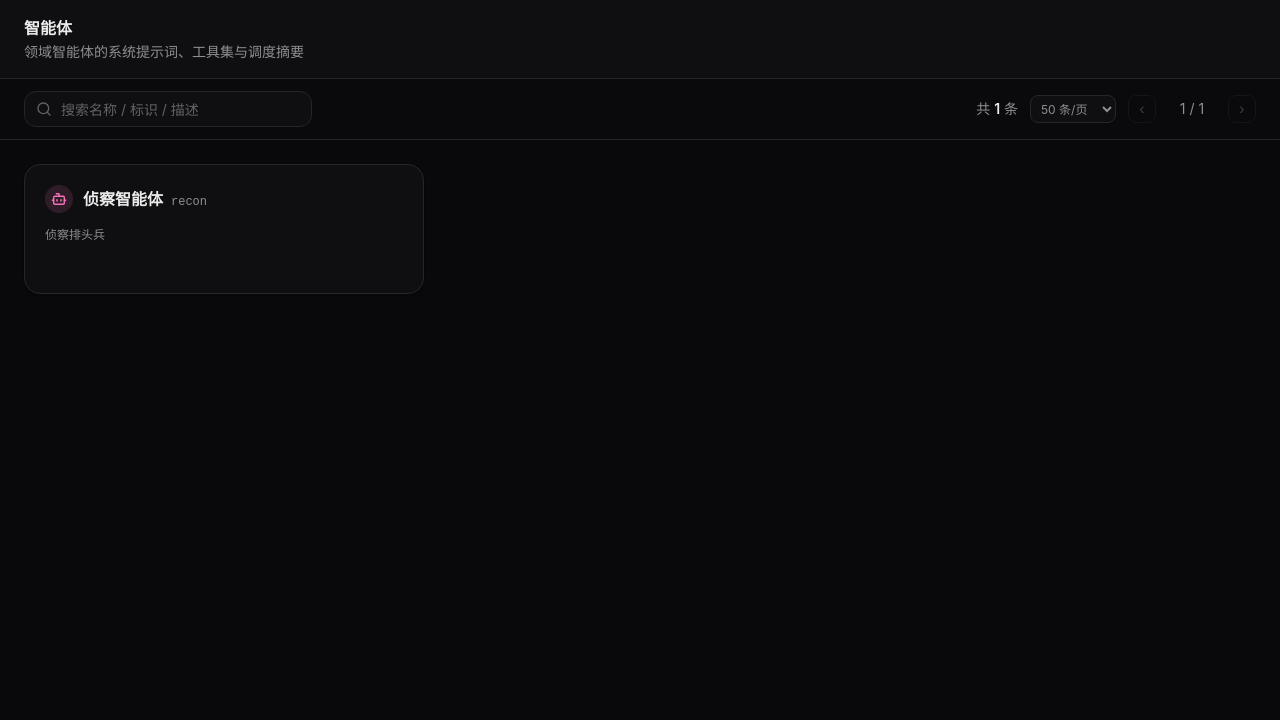
Test: AgentsPage › 无变更时保存禁用，产生变更后解锁
Click the button "侦察智能体".
click(123, 199)  # box [24,164,424,294]
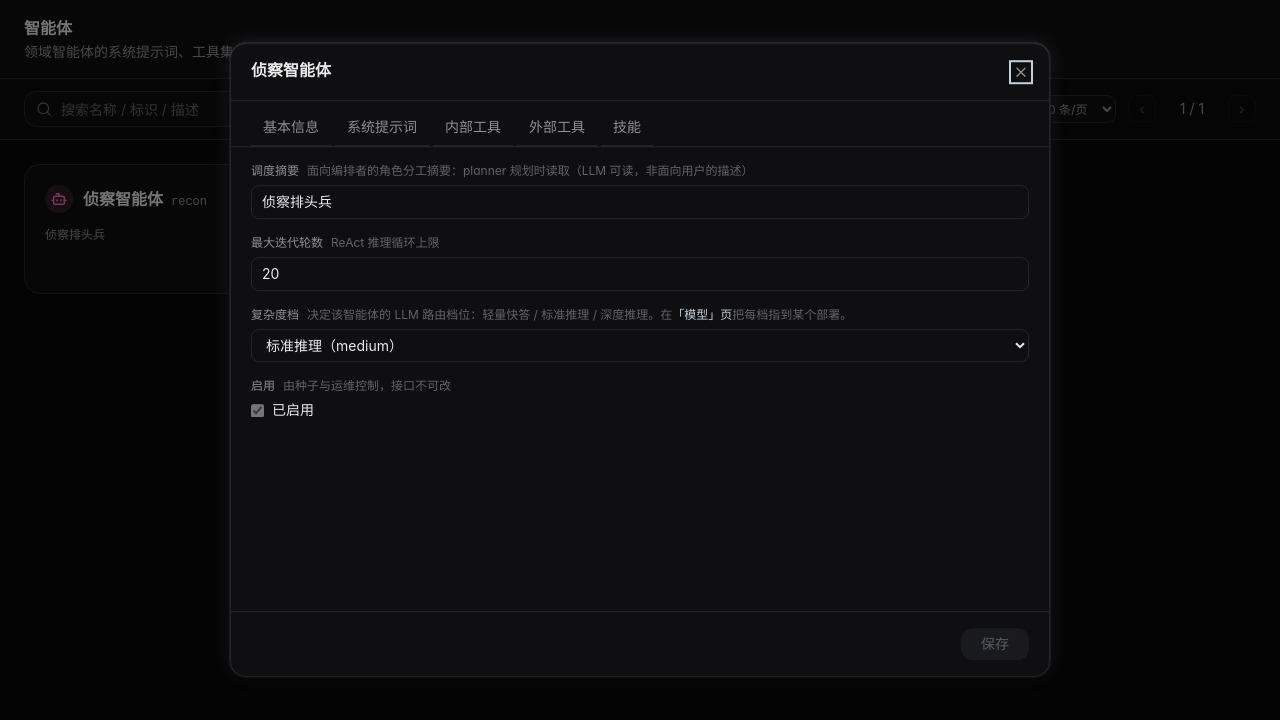
Expected: the dialog is shown, [230,43,1050,677]
Expected: the button "保存" is disabled, [961,628,1029,660]
Click the tab "内部工具".
click(473, 128)  # box [433,109,513,147]
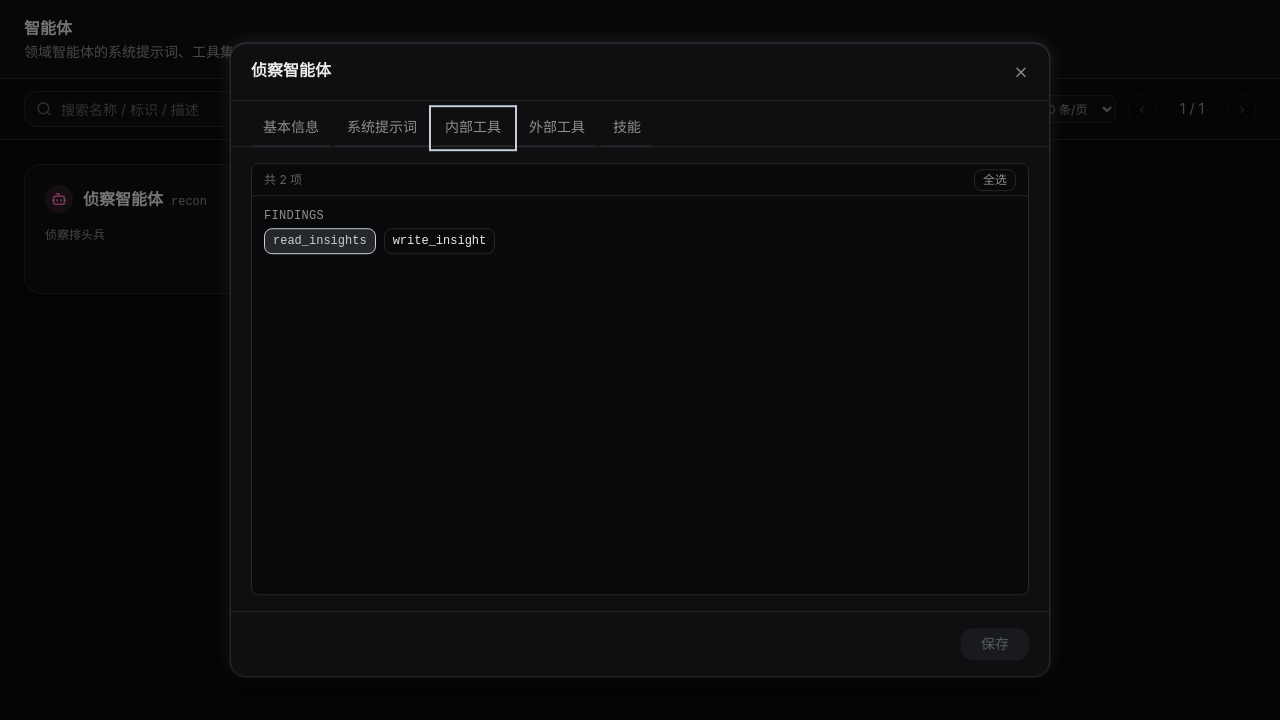
Click the button "write_insight".
click(439, 241)  # box [384,228,495,254]
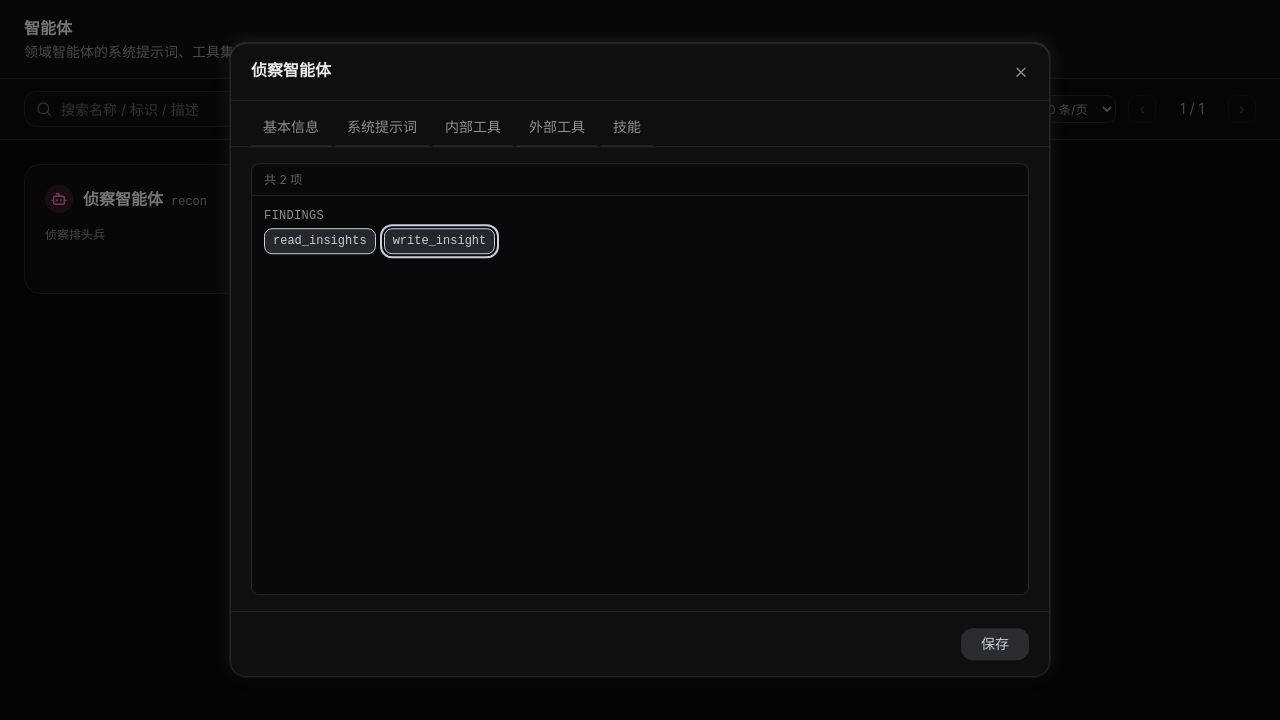
Expected: the button "保存" is enabled, [961,628,1029,660]
